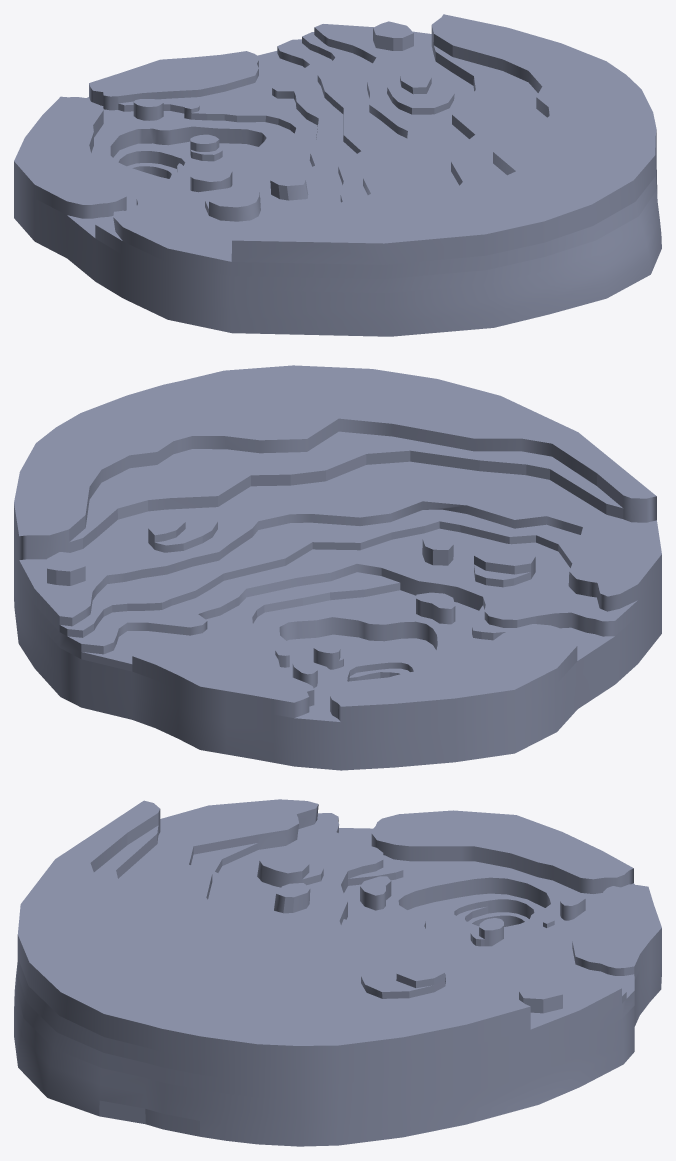
The model's file is enviroment base test2.fbx.
The picture shows the model from 3 angles, top to bottom: view 1: azimuth 30°, elevation 25°; view 2: azimuth 150°, elevation 25°; view 3: azimuth 270°, elevation 25°; orthographic projection. The views are drawn at different scales.
Visible parts, largest first — view 1: pCylinder1; view 2: pCylinder1; view 3: pCylinder1.
Part boxes in pixels (left/top/right/bottom): pCylinder1: left=14, top=14, right=661, bottom=336; pCylinder1: left=14, top=365, right=661, bottom=770; pCylinder1: left=14, top=799, right=661, bottom=1146.
Size of the model in its own units: 167 by 28.38 by 167.
